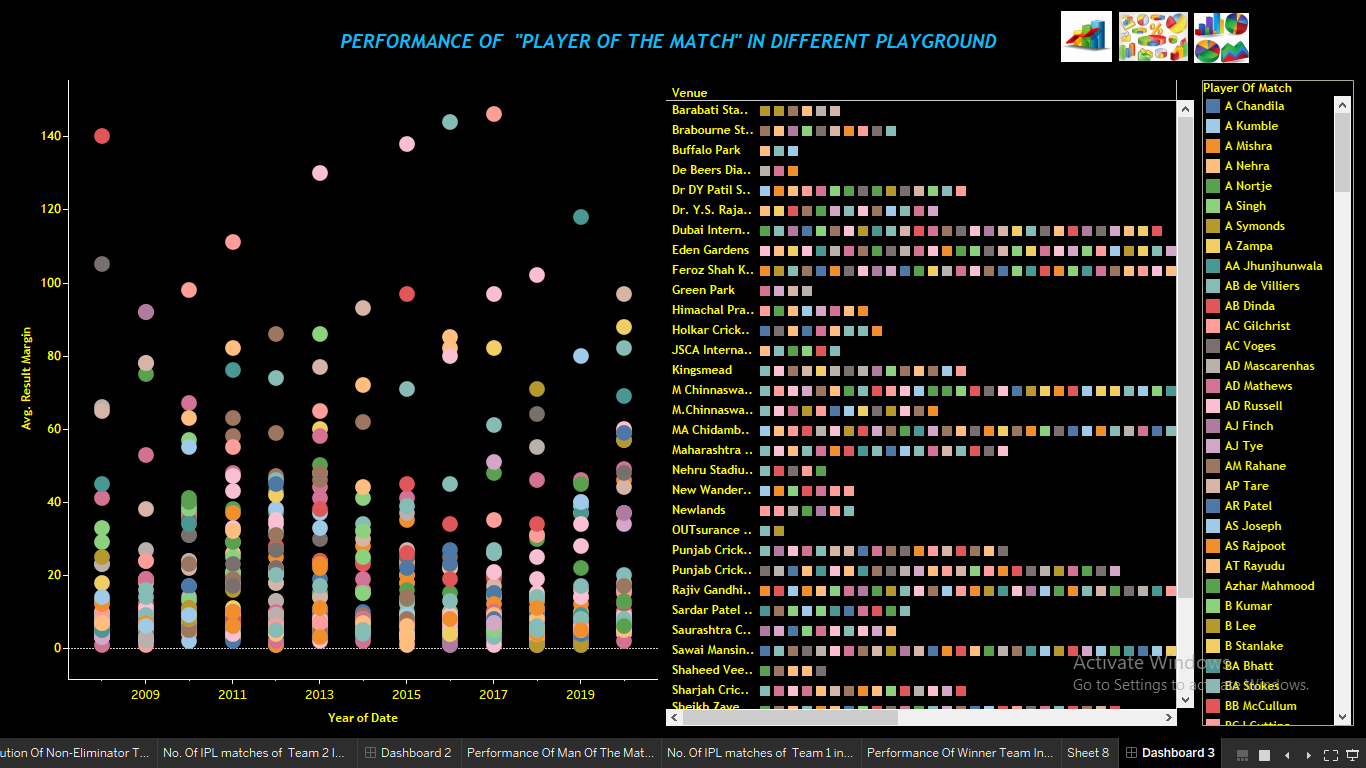

The page's visual inventory and layout, read from the dashboard file:
{"tool":"tableau","page":{"name":"Dashboard 3","canvas":[1000,1000],"units":"permille","ordinal":2},"visuals":[{"type":"worksheet","box":[0,0,1000,1000]},{"type":"worksheet","title":"Sheet 11 (3)","mark":"Shape","box":[867.8,0,53.6,103]},{"type":"worksheet","title":"Sheet 11","mark":"Shape","box":[817.6,3.4,54.4,92.9]},{"type":"worksheet","param":"vert","box":[6.7,13.5,986.6,973]},{"type":"worksheet","box":[6.7,13.5,986.6,114.9]},{"type":"worksheet","title":"Sheet 11 (2)","mark":"Shape","box":[773.2,15.2,45.2,69.3]},{"type":"worksheet","box":[6.7,128.4,986.6,858.1]},{"type":"worksheet","title":"Performance Of Man Of The Match","mark":"Circle","rows":["result_margin"],"cols":["date"],"box":[6.7,128.4,477.8,858.1]},{"type":"worksheet","param":"horz","box":[484.4,128.4,508.9,858.1]},{"type":"worksheet","param":"horz","box":[484.4,128.4,375,858.1]},{"type":"worksheet","param":"vert","box":[484.4,128.4,375,858.1]},{"type":"worksheet","title":"Sheet 8","mark":"Automatic","rows":["venue"],"box":[484.4,128.4,375,858.1]},{"type":"worksheet","param":"vert","box":[859.4,128.4,133.9,858.1]},{"type":"worksheet","title":"Sheet 8","mark":"Automatic","rows":["venue"],"param":"[federated.14qchaf0vuyj3e105ko2e114qr22].[none:player_of_match:nk]","box":[859.4,128.4,133.9,858.1]}]}

Visuals, with their boxes on the dashboard's canvas, which has no fixed pixel size, in thousandths of its width and height (x1, y1, x2, y2). These are canvas units, not pixel positions in the 1366x768 screenshot, which may show the page scaled, cropped or inside an application window:
worksheet: box=[0, 0, 1000, 1000]
"Sheet 11 (3)" worksheet (Shape marks): box=[868, 0, 921, 103]
"Sheet 11" worksheet (Shape marks): box=[818, 3, 872, 96]
worksheet: box=[7, 14, 993, 986]
worksheet: box=[7, 14, 993, 128]
"Sheet 11 (2)" worksheet (Shape marks): box=[773, 15, 818, 84]
worksheet: box=[7, 128, 993, 986]
"Performance Of Man Of The Match" worksheet (Circle marks): box=[7, 128, 484, 986]
worksheet: box=[484, 128, 993, 986]
worksheet: box=[484, 128, 859, 986]
worksheet: box=[484, 128, 859, 986]
"Sheet 8" worksheet: box=[484, 128, 859, 986]
worksheet: box=[859, 128, 993, 986]
"Sheet 8" worksheet: box=[859, 128, 993, 986]
